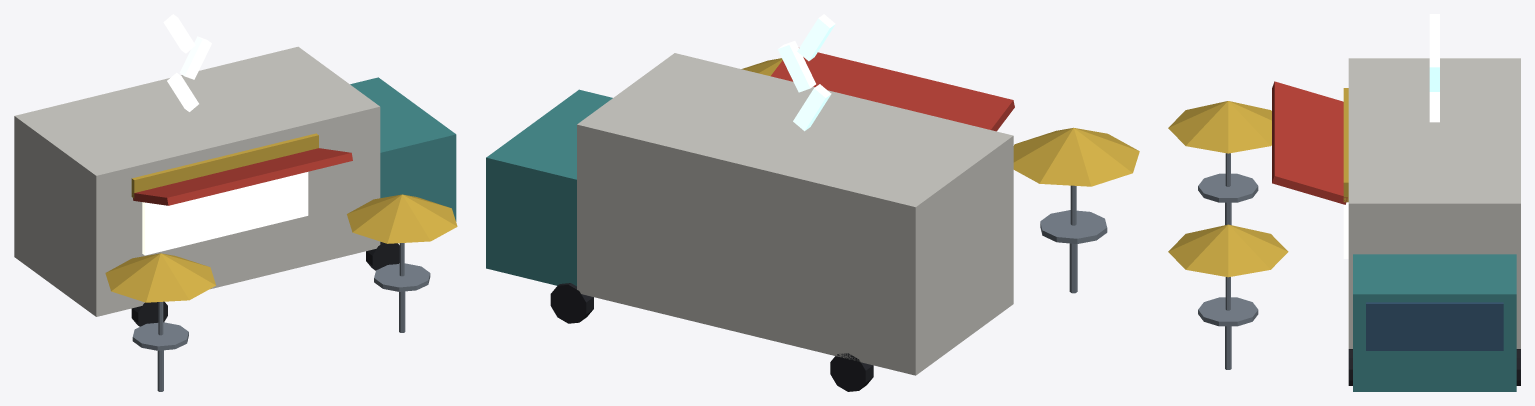
The model's file is lambda-food-truck.glb.
3 renders of one model, left to right at view 1: azimuth 30°, elevation 25°; view 2: azimuth 150°, elevation 25°; view 3: azimuth 270°, elevation 25°, orthographic. The views are drawn at different scales.
Visible parts, largest first — view 1: cw_paint, cw_glow, cw_neon; view 2: cw_paint, cw_neon; view 3: cw_paint, cw_neon, cw_glow.
Boxes of the visible parts, <box> form: cw_paint: <box>14,46,457,391</box>; cw_glow: <box>142,172,308,255</box>; cw_neon: <box>163,14,211,111</box>; cw_paint: <box>486,52,1139,391</box>; cw_neon: <box>777,14,835,131</box>; cw_paint: <box>1168,58,1520,391</box>; cw_neon: <box>1429,14,1439,122</box>; cw_glow: <box>1343,202,1348,258</box>.
Bounding box in the file's own units: 5.75 × 3.71 × 4.1.
